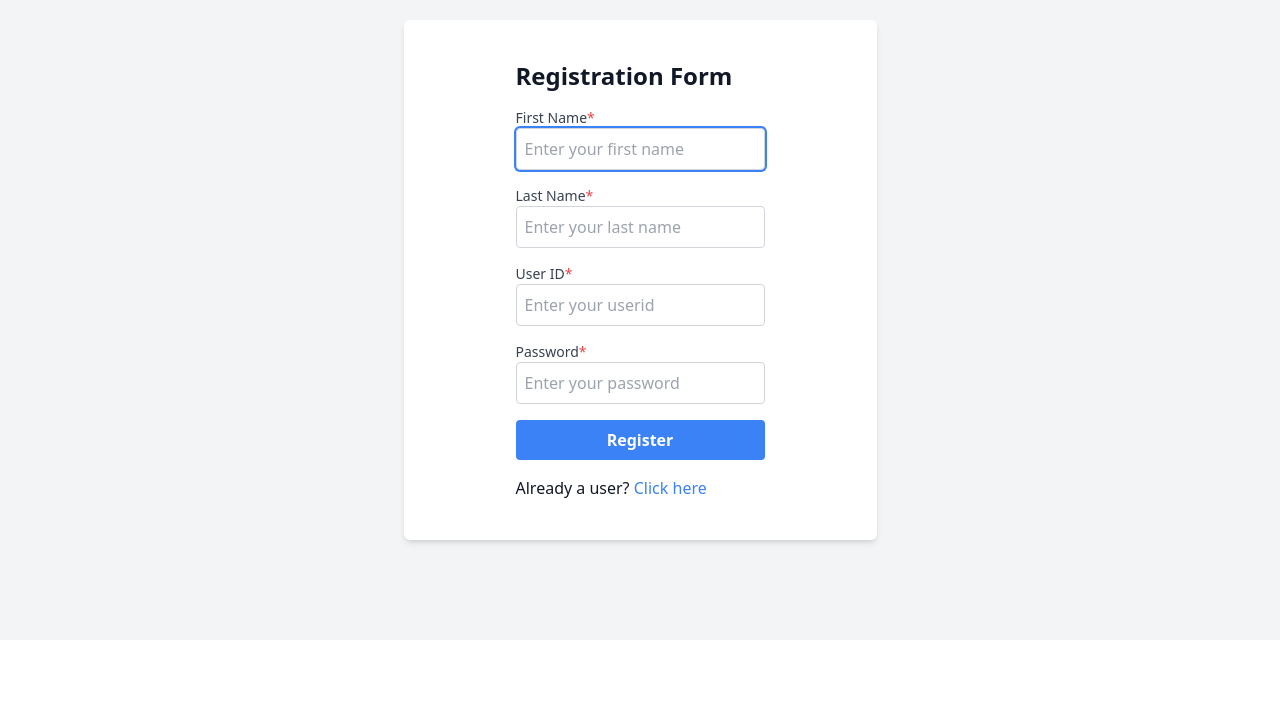
Registration Form › submits the form successfully
Type "John" into the field with placeholder "Enter your first name". click: (640, 149)
box: [516,128,764,170]
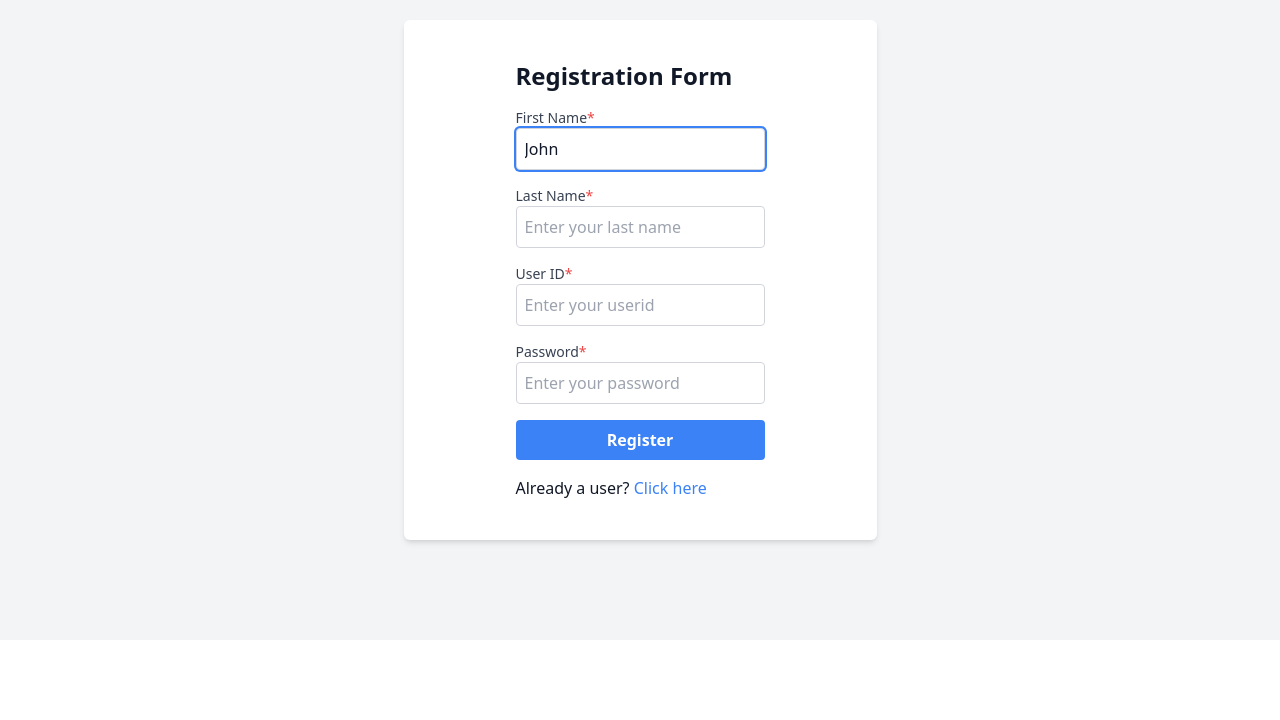
Type "Doe" into the field with placeholder "Enter your last name". click: (640, 227)
box: [516,206,764,248]
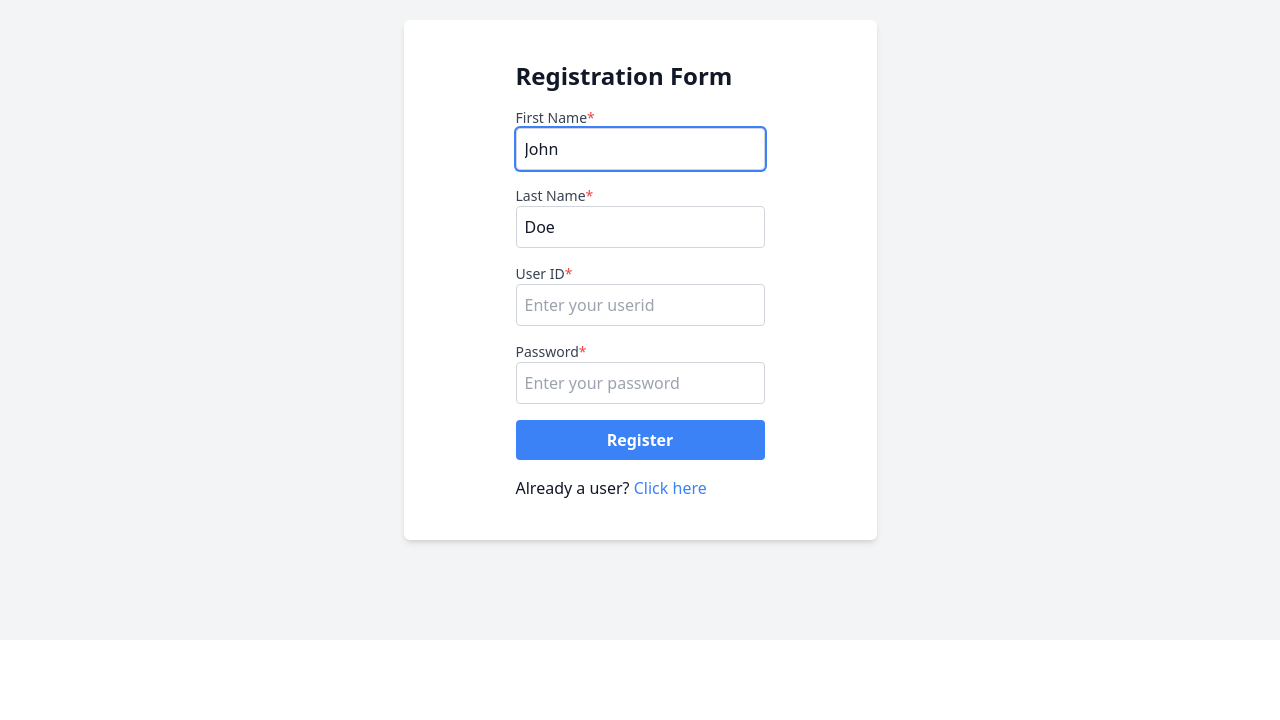
Type "johnDoe123" into the field with placeholder "Enter your userid". click: (640, 305)
box: [516,284,764,326]
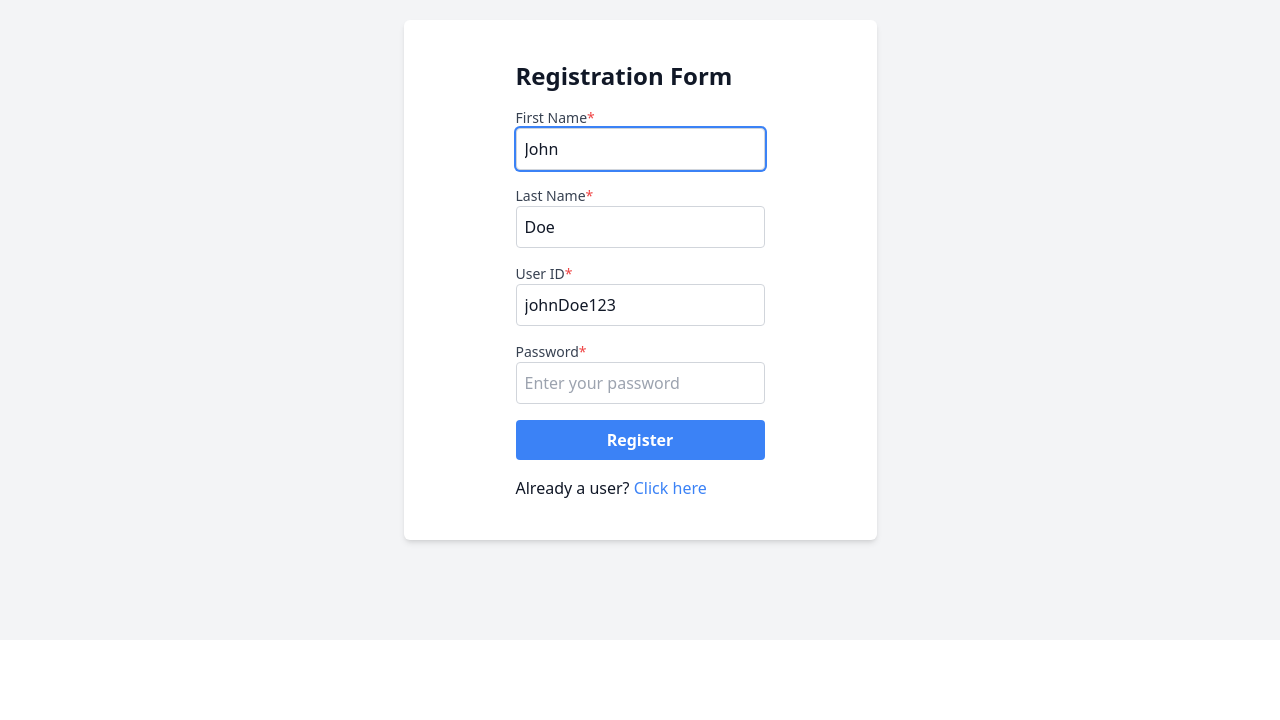
Type "Password@123" into the password field with placeholder "Enter your password". click: (640, 383)
box: [516,362,764,404]
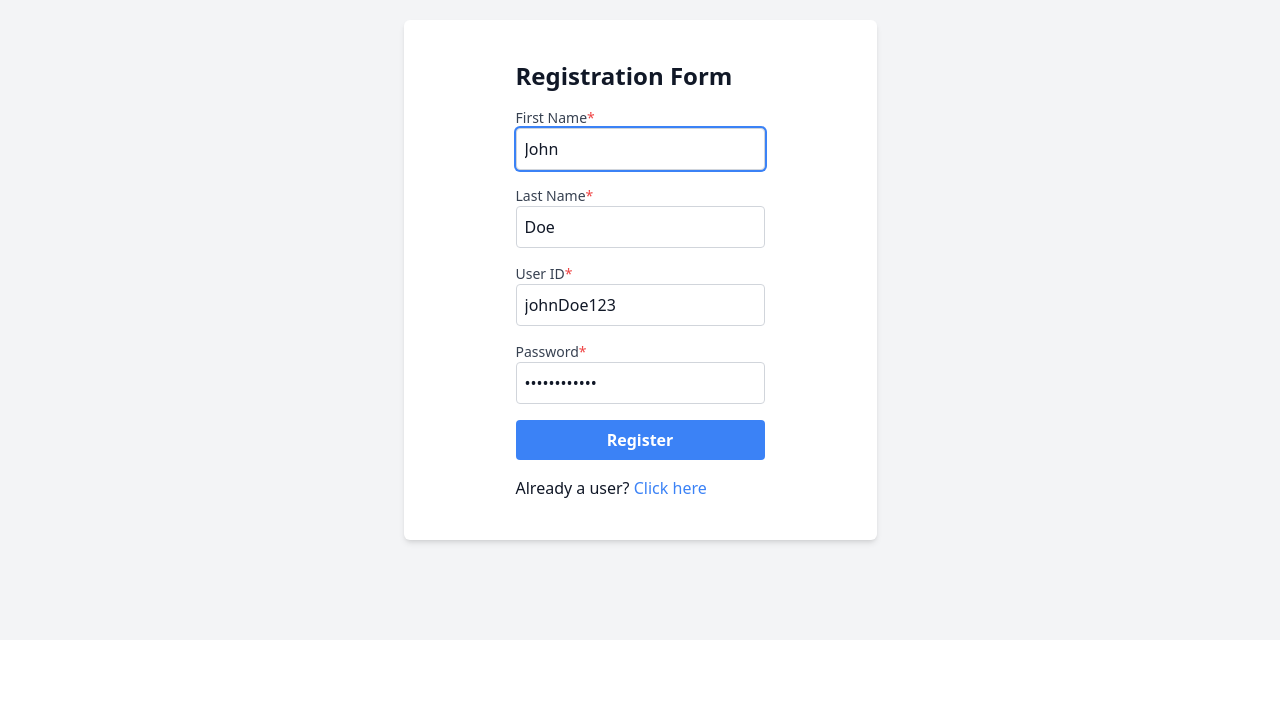
Click the button "Register". click: (640, 440)
box: [516,420,764,460]
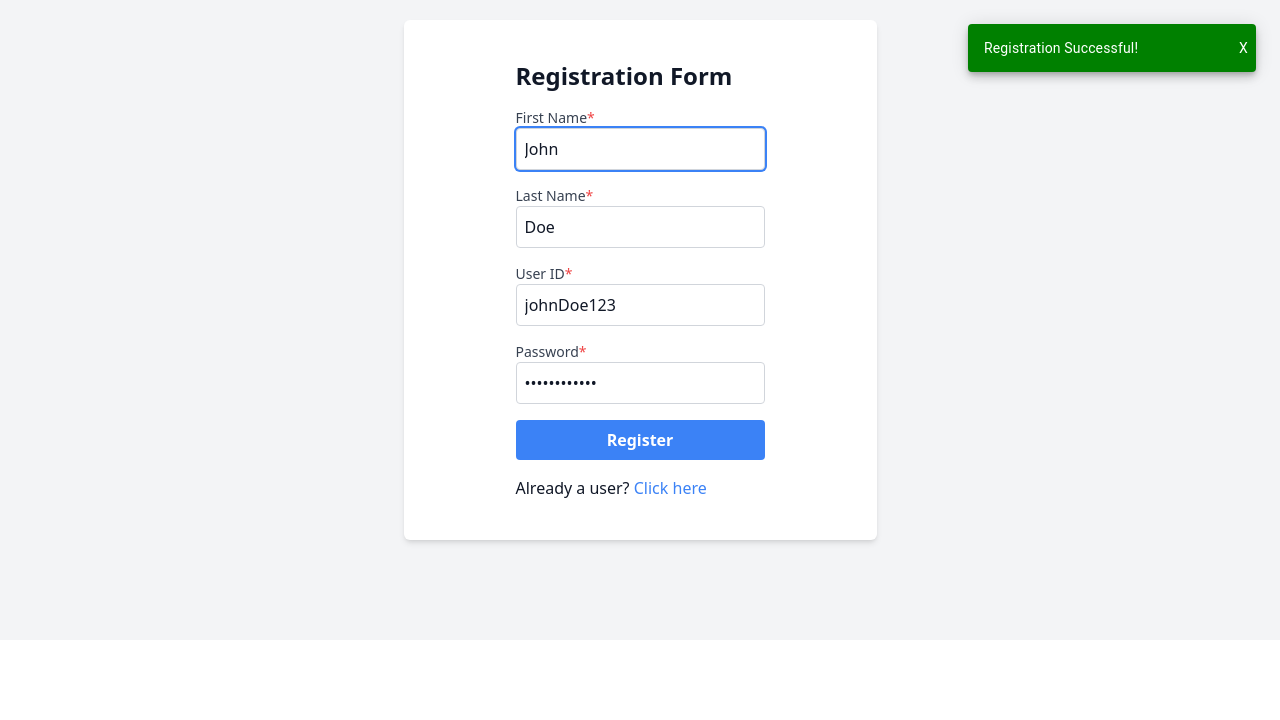
Now the text "Registration Successful!" is shown, box [984,40,1138,56]
